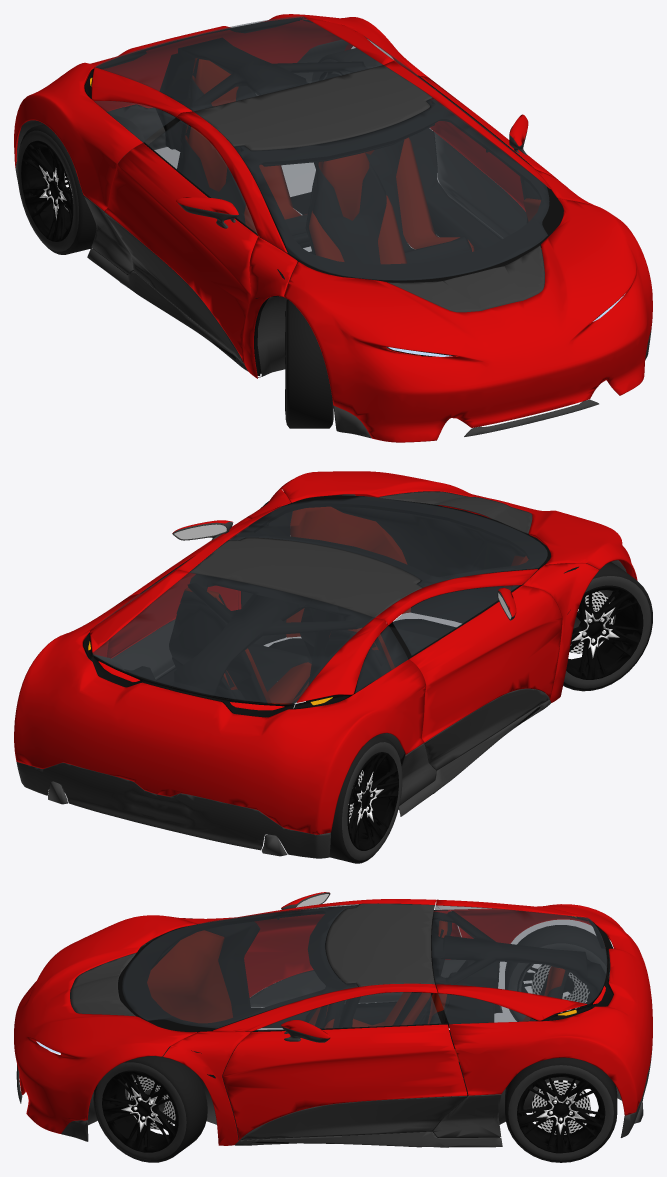
The model's file is car.glb.
3 views of the same model, one above another, from view 1: azimuth 30°, elevation 25°; view 2: azimuth 150°, elevation 25°; view 3: azimuth 270°, elevation 25° (orthographic). The views are drawn at different scales.
Parts seen in each view (by area): view 1: BodyHood, BodyWindshield, BodyRearPanelsColor1, BodyRearwindow, BodyDoorRColor1, BodyRoofPanel, BodyWindshieldGasket, InteriorSeatsColor1, InteriorSeatsColor2, BodyPillars, InteriorPillar, BodyPanelsColor2 (+15 smaller); view 2: BodyRearPanelsColor1, BodyRearwindow, BodyWindshield, BodyPanelsColor2, BodyDoorRColor1, BodyRoofPanel, InteriorPillar, InteriorDashMid, BodyHood, BodyPillars, BodyWindshieldGasket, InteriorSeatsFrame1 (+18 smaller); view 3: BodyRearPanelsColor1, BodyWindshield, BodyDoorLColor1, BodyHood, BodyRearwindow, BodyRoofPanel, BodyPillars, BodyWindshieldGasket, InteriorMid, BodyDoorLColor2, BodyPanelsColor2, InteriorDashSides (+21 smaller).
Boxes of the visible parts, x1,y1,x2,y2 form: BodyHood: [283, 198, 652, 442]; BodyWindshield: [234, 98, 549, 280]; BodyRearPanelsColor1: [14, 14, 434, 210]; BodyRearwindow: [95, 16, 382, 111]; BodyDoorRColor1: [104, 143, 257, 363]; BodyRoofPanel: [193, 65, 432, 150]; BodyWindshieldGasket: [234, 99, 563, 282]; InteriorSeatsColor1: [185, 58, 474, 264]; InteriorSeatsColor2: [181, 78, 471, 264]; BodyPillars: [176, 61, 599, 378]; InteriorPillar: [155, 37, 434, 169]; BodyPanelsColor2: [15, 93, 651, 438]; BodyRearPanelsColor1: [14, 569, 425, 834]; BodyRearwindow: [92, 572, 373, 703]; BodyWindshield: [229, 496, 547, 587]; BodyPanelsColor2: [16, 666, 550, 858]; BodyDoorRColor1: [409, 585, 562, 742]; BodyRoofPanel: [189, 537, 422, 617]; InteriorPillar: [171, 574, 417, 701]; InteriorDashMid: [332, 502, 528, 623]; BodyHood: [279, 471, 637, 580]; BodyPillars: [175, 489, 599, 702]; BodyWindshieldGasket: [230, 495, 550, 587]; InteriorSeatsFrame1: [169, 591, 384, 708]; BodyRearPanelsColor1: [436, 899, 652, 1115]; BodyWindshield: [122, 904, 358, 1028]; BodyDoorLColor1: [222, 1024, 467, 1140]; BodyHood: [14, 915, 196, 1133]; BodyRearwindow: [431, 905, 607, 1004]; BodyRoofPanel: [326, 903, 434, 986]; BodyPillars: [163, 899, 437, 1145]; BodyWindshieldGasket: [118, 905, 357, 1032]; InteriorMid: [183, 918, 500, 1143]; BodyDoorLColor2: [240, 1096, 467, 1140]; BodyPanelsColor2: [16, 979, 652, 1147]; InteriorDashSides: [147, 930, 232, 1045].
Bounding box in the file's own units: 2.54 × 1.15 × 4.36.
Materials: 19 (1 with a texture image).
